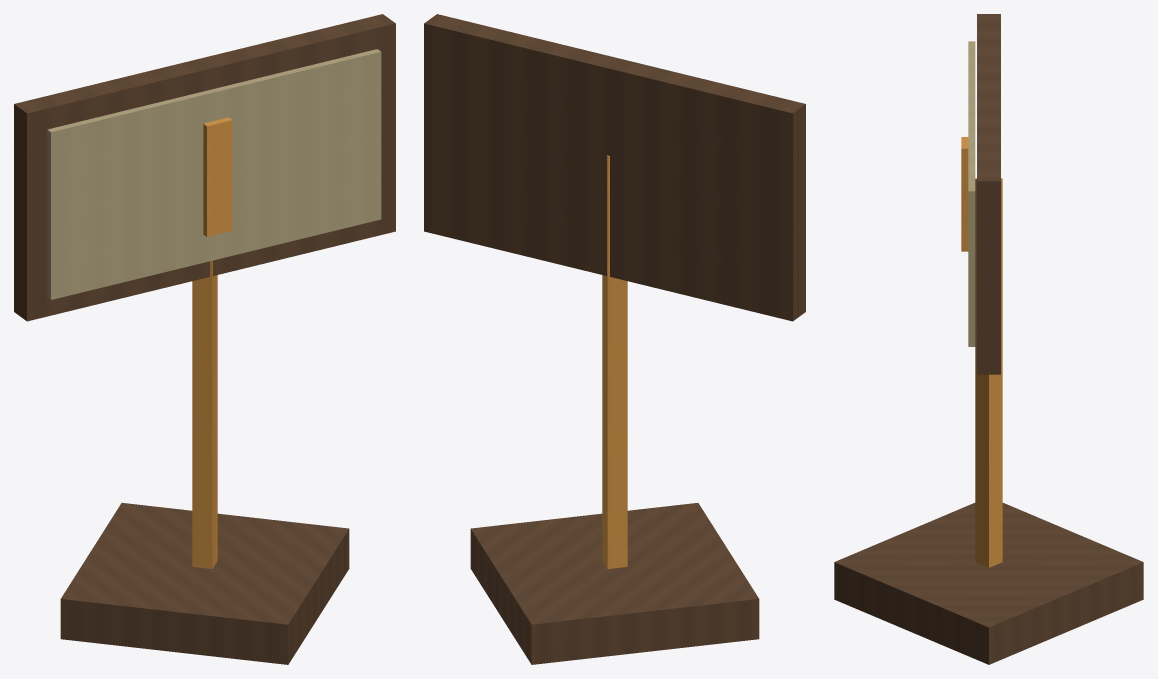
Rendered from atlas100-s013-a11.lod2.glb.
The picture shows the model from 3 angles, left to right: view 1: azimuth 30°, elevation 25°; view 2: azimuth 150°, elevation 25°; view 3: azimuth 270°, elevation 25°; orthographic projection. The views are drawn at different scales.
Visible parts, largest first — view 1: atlas100-s013-a11:part-003, atlas100-s013-a11:part-000, atlas100-s013-a11:part-002, atlas100-s013-a11:part-001, atlas100-s013-a11:part-005; view 2: atlas100-s013-a11:part-002, atlas100-s013-a11:part-000, atlas100-s013-a11:part-001; view 3: atlas100-s013-a11:part-000, atlas100-s013-a11:part-002, atlas100-s013-a11:part-001, atlas100-s013-a11:part-003, atlas100-s013-a11:part-005.
Boxes of the visible parts, x1,y1,x2,y2 form: atlas100-s013-a11:part-003: (47, 49, 381, 299); atlas100-s013-a11:part-000: (60, 503, 349, 664); atlas100-s013-a11:part-002: (14, 14, 395, 321); atlas100-s013-a11:part-001: (192, 260, 217, 568); atlas100-s013-a11:part-005: (203, 117, 232, 236); atlas100-s013-a11:part-002: (424, 14, 805, 321); atlas100-s013-a11:part-000: (470, 503, 759, 664); atlas100-s013-a11:part-001: (602, 155, 627, 568); atlas100-s013-a11:part-000: (834, 503, 1143, 664); atlas100-s013-a11:part-002: (977, 14, 1000, 374); atlas100-s013-a11:part-001: (975, 178, 1002, 567); atlas100-s013-a11:part-003: (968, 41, 975, 346); atlas100-s013-a11:part-005: (961, 137, 968, 251).
Bounding box in the file's own units: 1.15 × 1.61 × 0.9.
3 materials, 3 textured.
